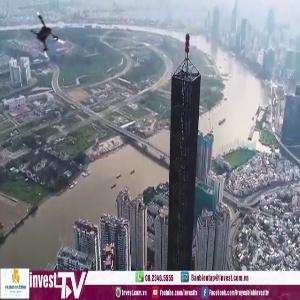drone: (24, 10, 76, 62)
